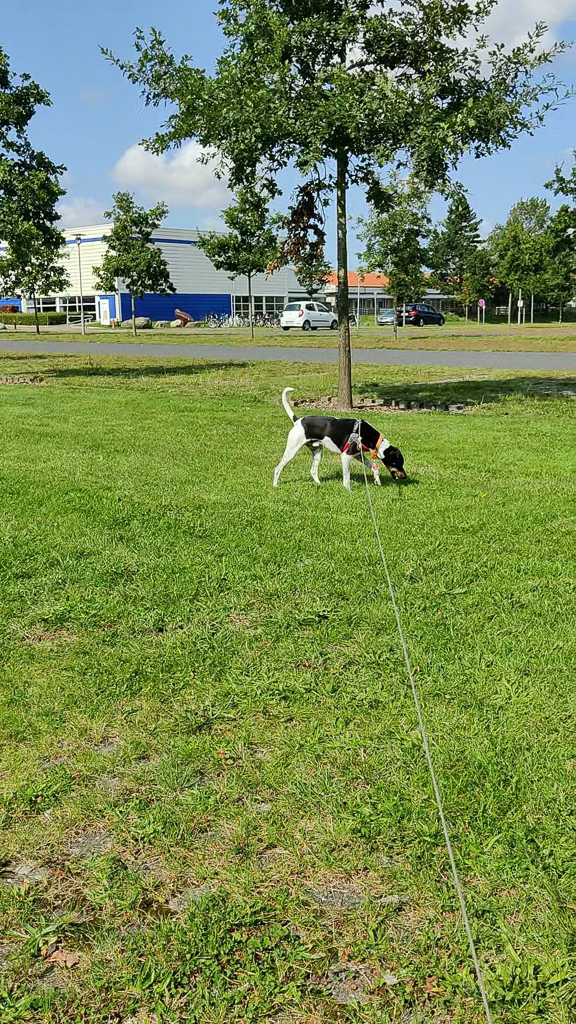Dog: (262, 380, 416, 496)
